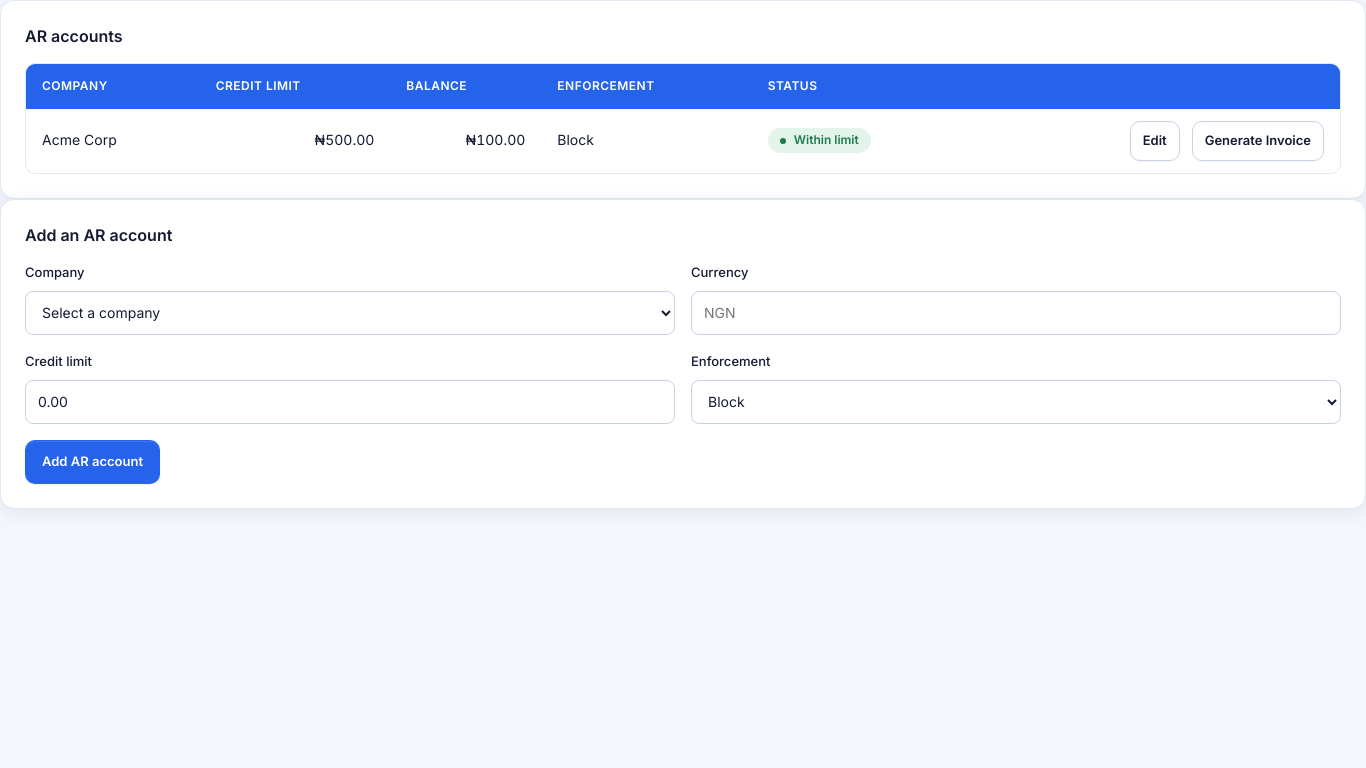
Test: <AccountsTab> › surfaces a real "no charges to invoice" error
This screenshot has width=1366, height=768.
Click the button "Generate Invoice".
click(1258, 141)  # box [1192,121,1324,161]
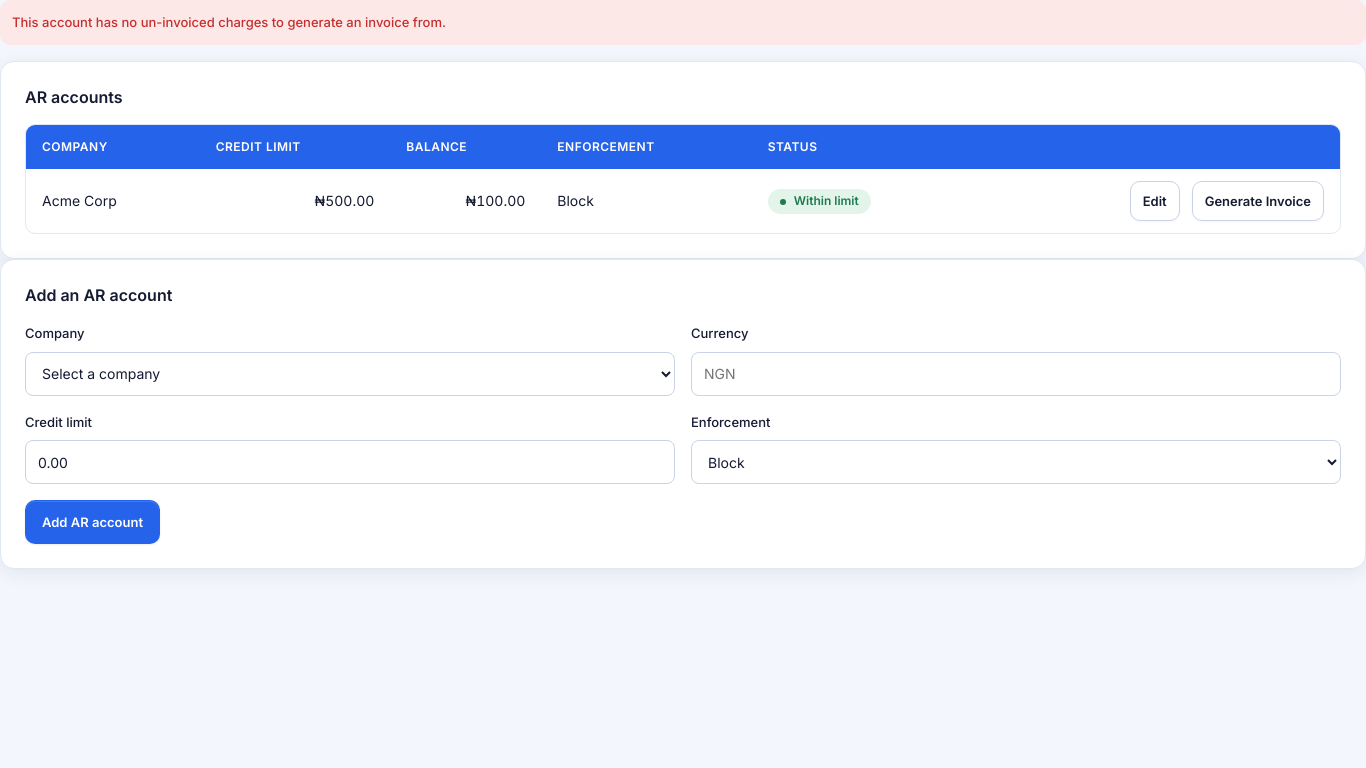
Expected: the message shows "no un-invoiced charges", [12,14,446,30]
